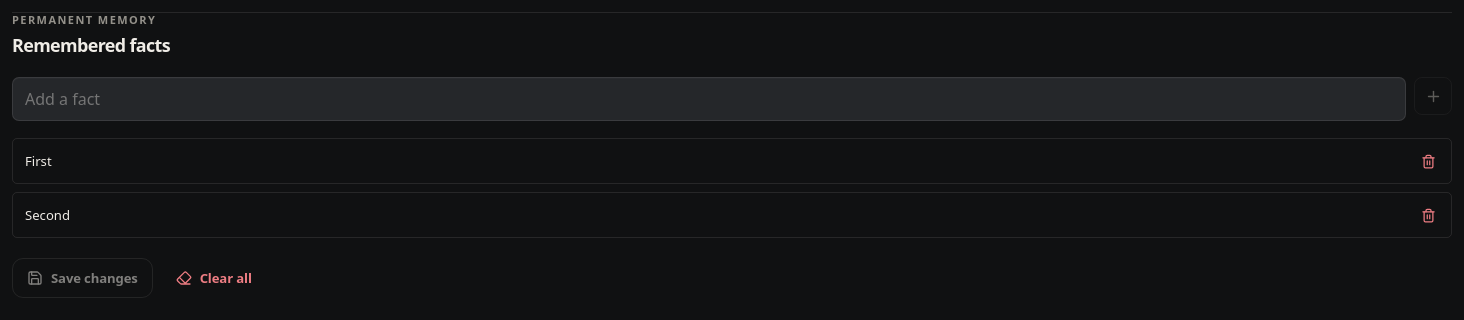
Scenario: MemoryPanel unsaved changes › leaves the marked rows in place when the save fails, and settles them once the server answers
Click the button named "Remove memory 1": [1428, 161] box [1413,146,1443,176]
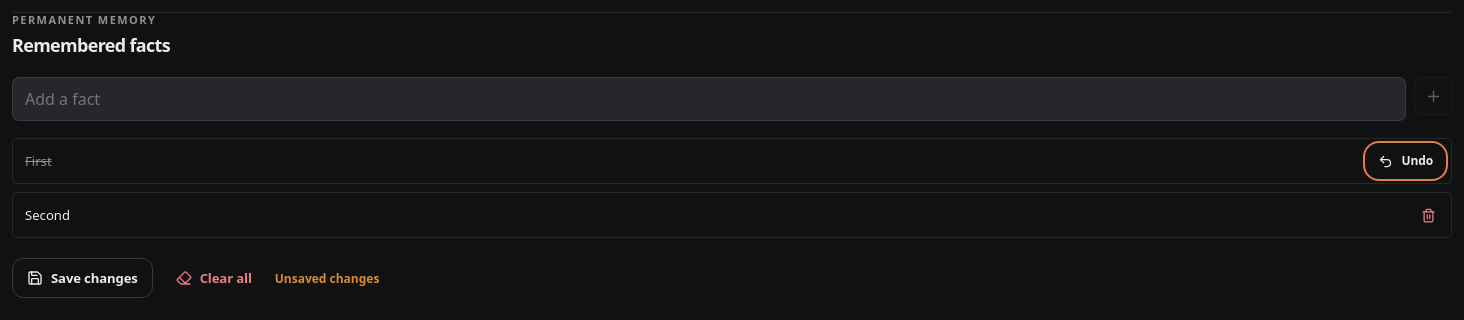
Click the button "Save changes": [82, 278] box [12,258,153,298]
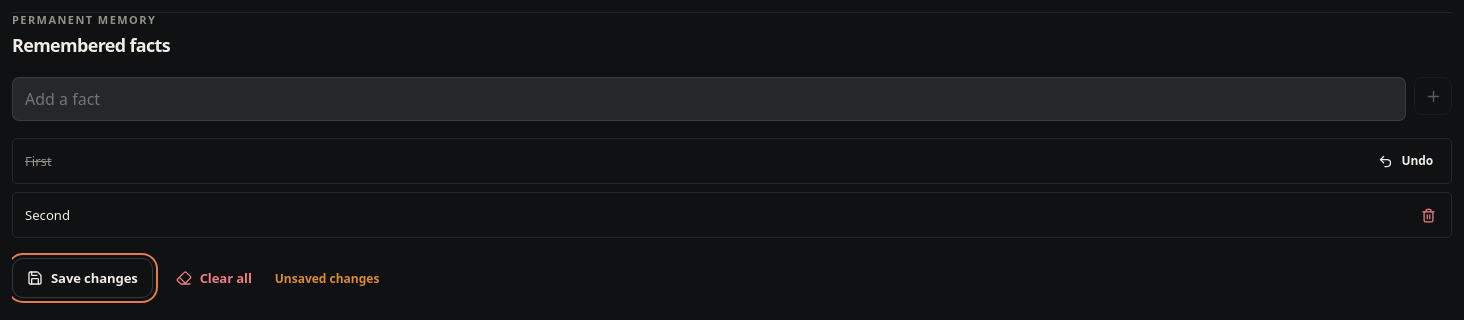
Expected: the field named "Memory 1 (removed)" is shown, [21,148,1362,175]
Expected: the message reads "Unsaved changes", [275,270,380,287]
Click the button "Save changes": [82, 278] box [12,258,153,298]
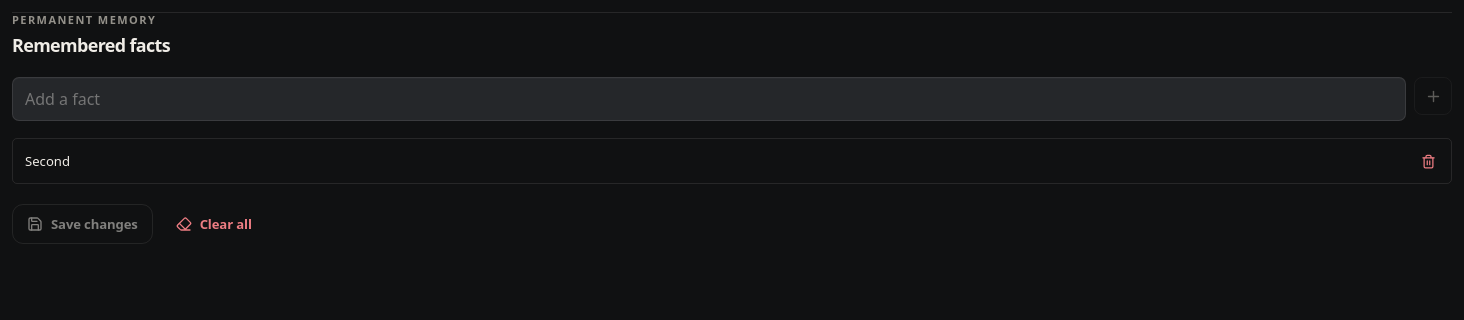
Expected: the field named "Memory 1" holds "Second", [21,148,1406,175]
Expected: the button "Save changes" is disabled, [12,204,153,244]
